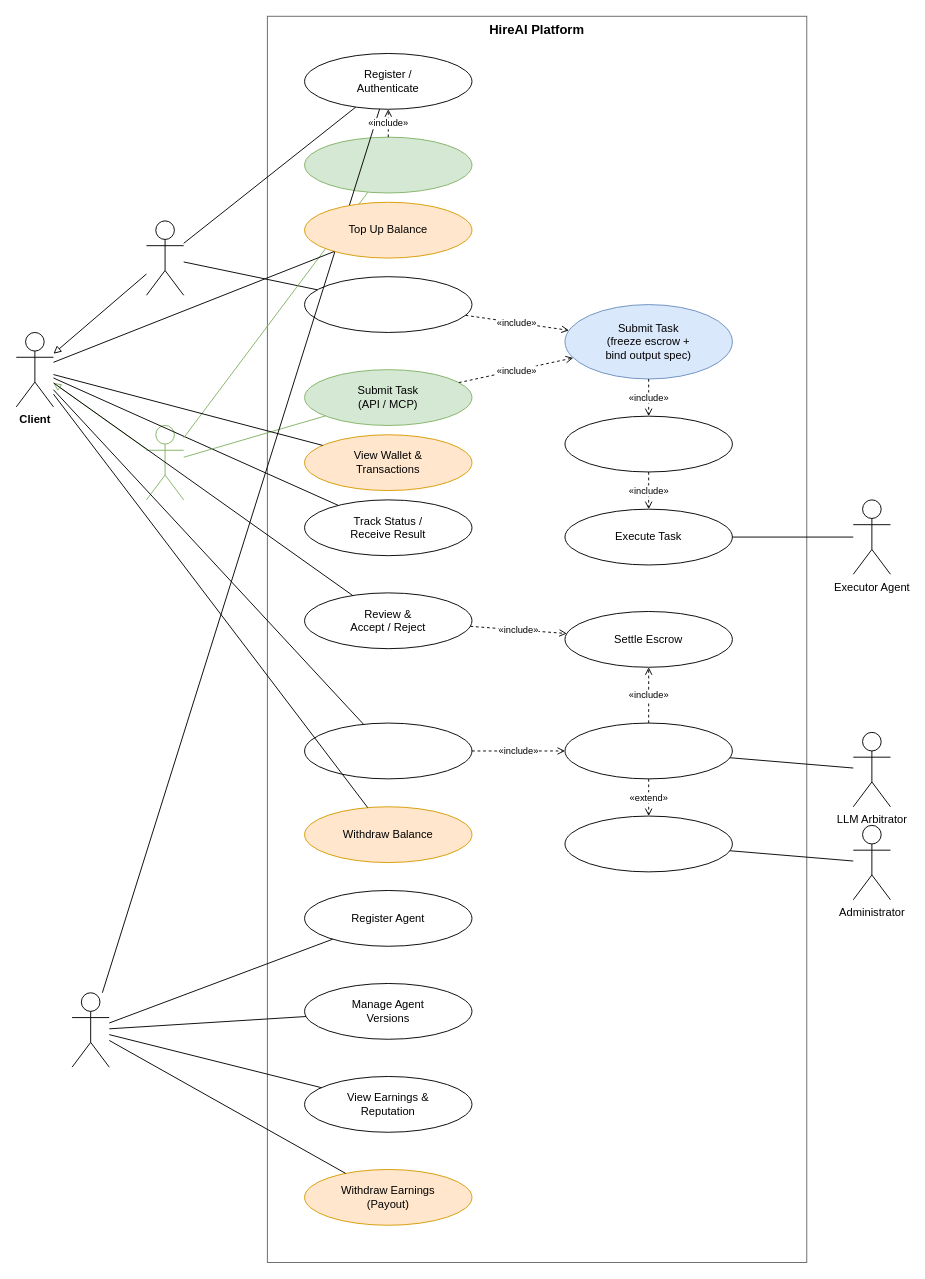
The diagram is 925 pixels wide and 1279 high, and some of its shapes have lost their labels. The centre of each missing label's shape, as x and y in pixels:
Agent Builder: the point at 90,1029
Arbitrate Dispute: the point at 648,750
Client Agent (programmatic): the point at 165,462
Escalate to Human Review: the point at 648,843
Human Client: the point at 165,257
Manage API Keys (+ spend caps): the point at 388,164
Raise Dispute: the point at 388,750
Route & Dispatch Task: the point at 648,443
Submit Task (Web UI): the point at 388,304
